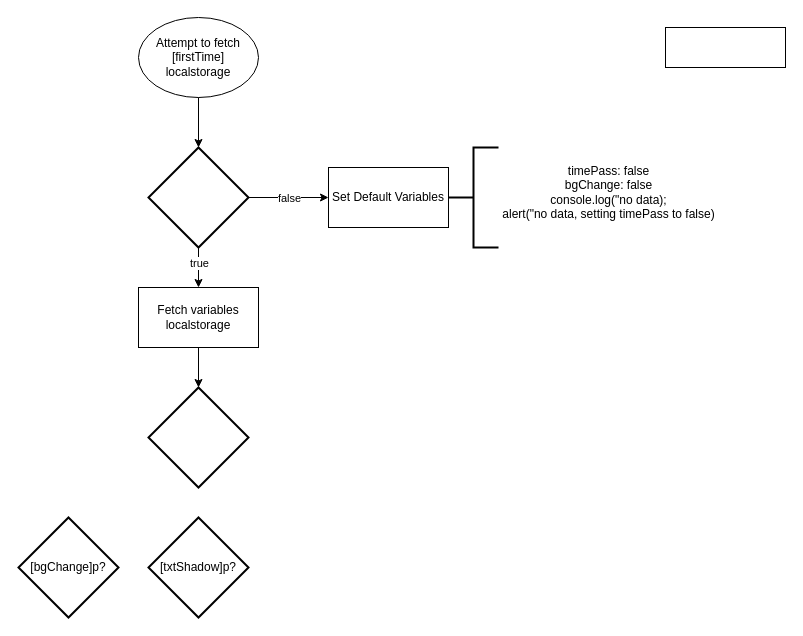
The diagram is 803 pixels wide and 636 high, and some of its shapes have lost their labels. The shapes that lost their labels are listed below. From the top down, each one's centre as x and y in pixels, then its label:
point 725,47: Is [firstTime] false?
point 198,197: Existsp?
point 198,437: [timePass]p?
